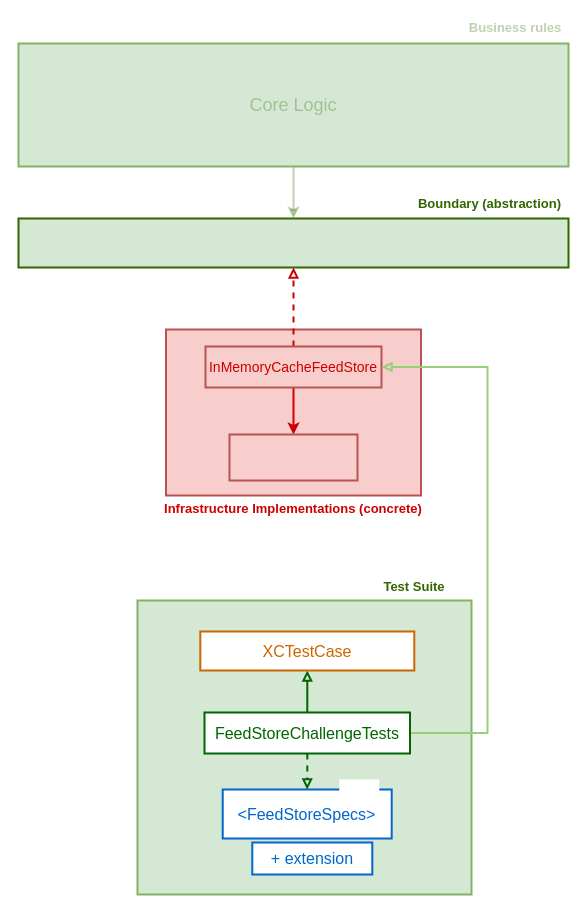
Some shapes in this 586 by 912 pixel diagram are drawn without their labels. The shapes that lost their labels are listed below. From the top down, each one's centre as x and y in pixels, then its label:
At point (293, 242): "<FeedStore>".
At point (293, 457): "NSCache [ : ]".
At point (359, 789): "<P>".
